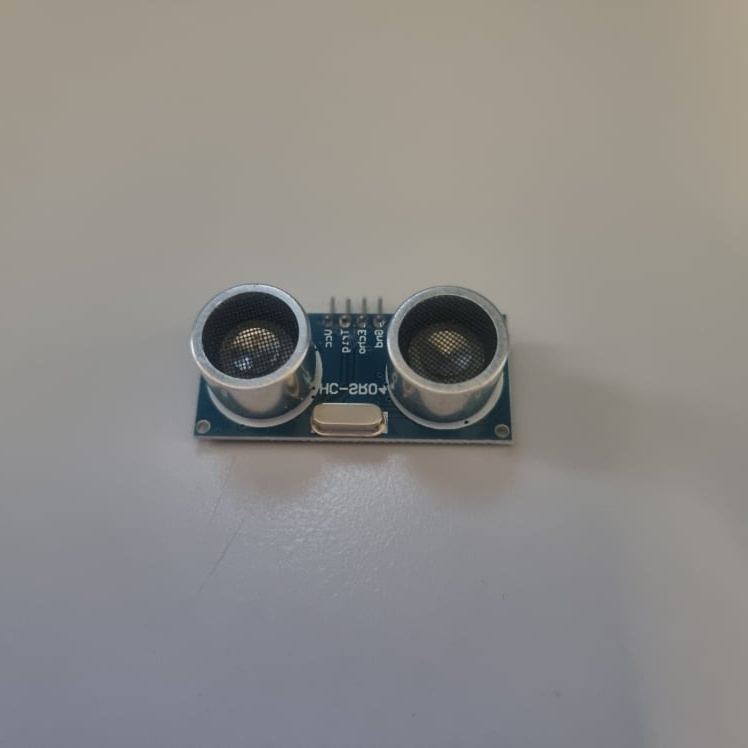SENSOR: (190, 281, 514, 445)
